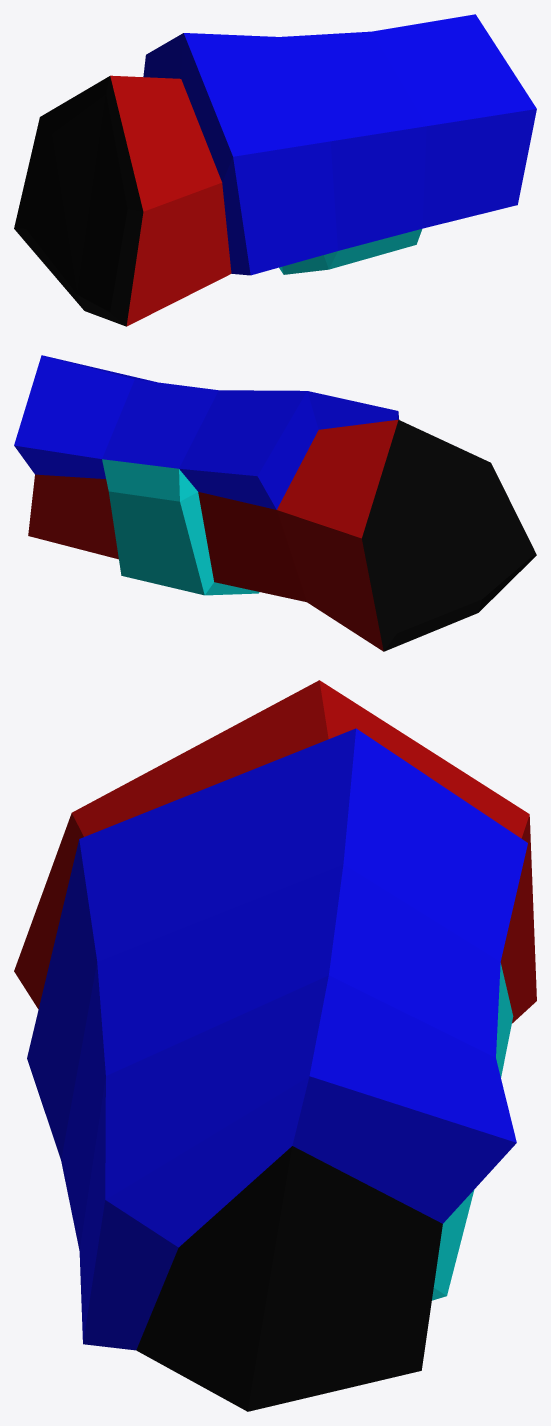
Rendered from Chr_ArmUpperLeft_Male_Static_06.fbx.
The picture shows the model from 3 angles, top to bottom: view 1: azimuth 30°, elevation 25°; view 2: azimuth 150°, elevation 25°; view 3: azimuth 270°, elevation 25°; orthographic projection. The views are drawn at different scales.
Visible parts, largest first — view 1: Chr_ArmUpperLeft_Male_06; view 2: Chr_ArmUpperLeft_Male_06; view 3: Chr_ArmUpperLeft_Male_06.
Part boxes in pixels (bbox=[...]): Chr_ArmUpperLeft_Male_06: bbox=[14, 14, 536, 326]; Chr_ArmUpperLeft_Male_06: bbox=[14, 355, 536, 651]; Chr_ArmUpperLeft_Male_06: bbox=[14, 680, 536, 1411].
Size of the model in its own units: 33.07 by 17.31 by 17.36.
